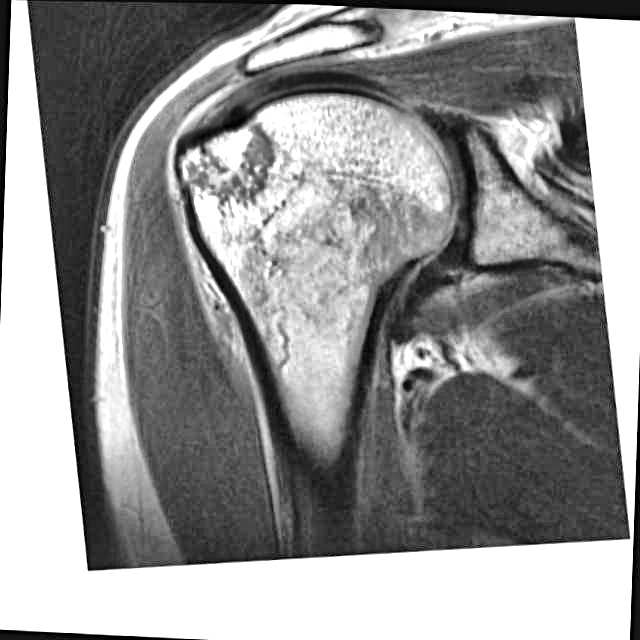Comminuted: (165, 107, 295, 215)
